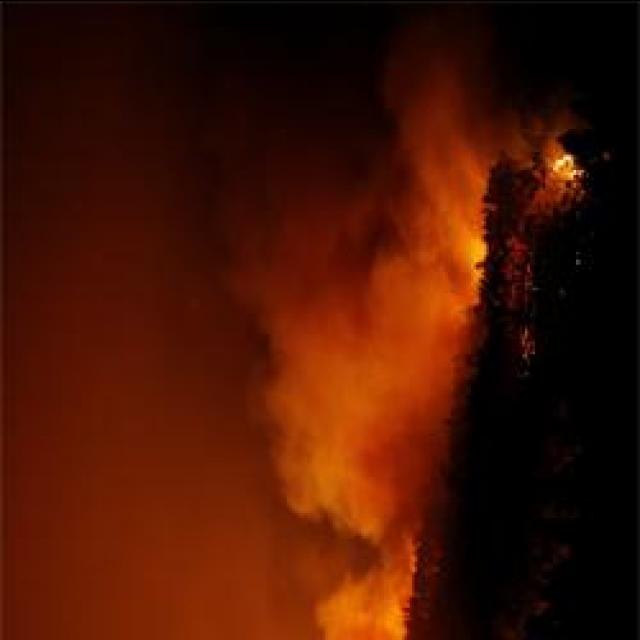fire: (468, 230, 488, 270), (551, 152, 581, 178)
smoke: (0, 0, 276, 202), (274, 314, 419, 526), (145, 462, 311, 640), (362, 66, 468, 338), (233, 175, 385, 327), (440, 0, 547, 126), (301, 564, 405, 639)
